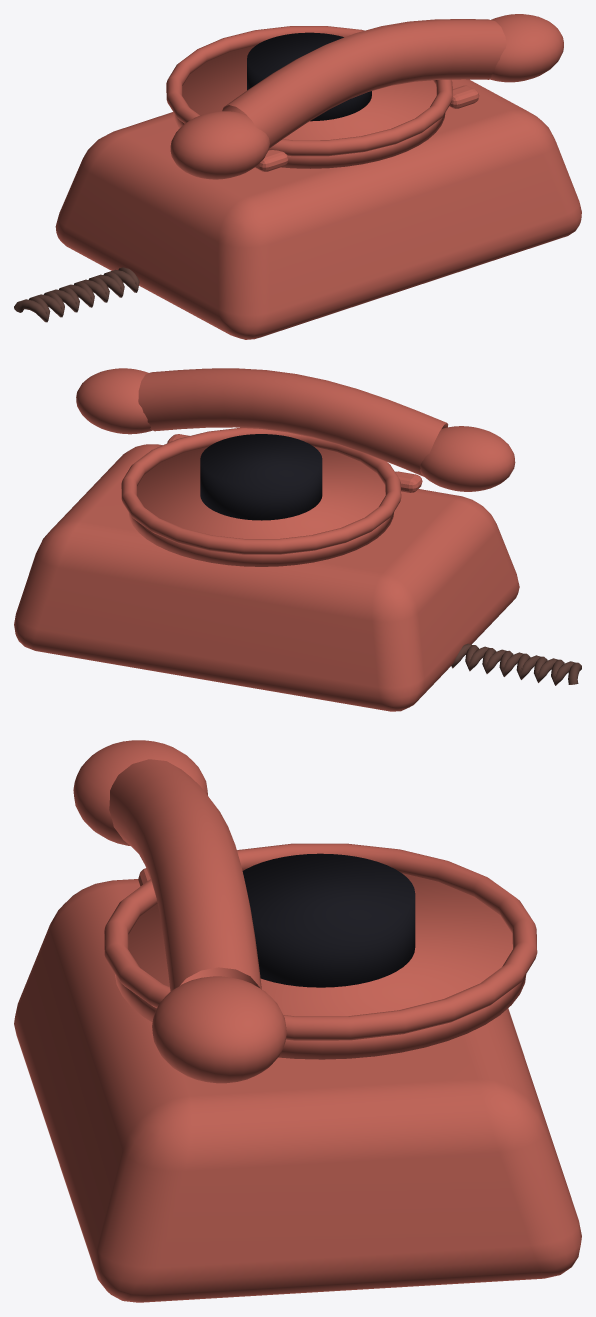
The model's file is phone.glb.
3 views of the same model, one above another, from view 1: azimuth 30°, elevation 25°; view 2: azimuth 150°, elevation 25°; view 3: azimuth 270°, elevation 25° (orthographic). The views are drawn at different scales.
Visible parts, largest first — view 1: PhoneBase, HandsetBar, DialDisc, DialRing, HandsetEnd, HandsetEnd.001, DialCenter, CoilCord, CradleR, CradleL; view 2: PhoneBase, HandsetBar, DialDisc, DialCenter, DialRing, HandsetEnd, HandsetEnd.001, CoilCord; view 3: PhoneBase, DialDisc, HandsetBar, DialCenter, DialRing, HandsetEnd.001, HandsetEnd.
Boxes of the visible parts, x1,y1,x2,y2 form: PhoneBase: (55, 79, 581, 339); HandsetBar: (222, 19, 506, 148); DialDisc: (173, 45, 445, 168); DialRing: (166, 26, 452, 156); HandsetEnd: (170, 111, 269, 179); HandsetEnd.001: (490, 14, 563, 82); DialCenter: (247, 32, 371, 121); CoilCord: (14, 267, 139, 322); CradleR: (449, 85, 479, 108); CradleL: (255, 150, 288, 171); PhoneBase: (14, 444, 519, 711); HandsetBar: (138, 368, 448, 476); DialDisc: (128, 446, 393, 566); DialCenter: (200, 434, 322, 520); DialRing: (121, 427, 401, 554); HandsetEnd: (420, 426, 515, 491); HandsetEnd.001: (76, 368, 152, 434); CoilCord: (451, 643, 581, 685); PhoneBase: (14, 879, 581, 1302); DialDisc: (115, 873, 526, 1059); HandsetBar: (109, 759, 261, 991); DialCenter: (242, 853, 415, 987); DialRing: (104, 843, 537, 1040); HandsetEnd.001: (152, 976, 286, 1083); HandsetEnd: (73, 740, 207, 845).
Size of the model in its own units: 0.6024 by 0.25 by 0.3723.
